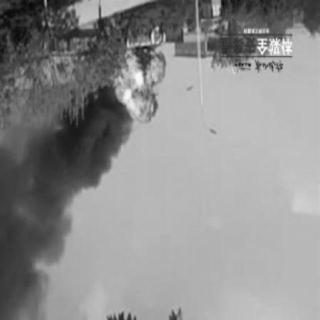Fire: (108, 46, 166, 128)
Smoke: (3, 109, 124, 313)
